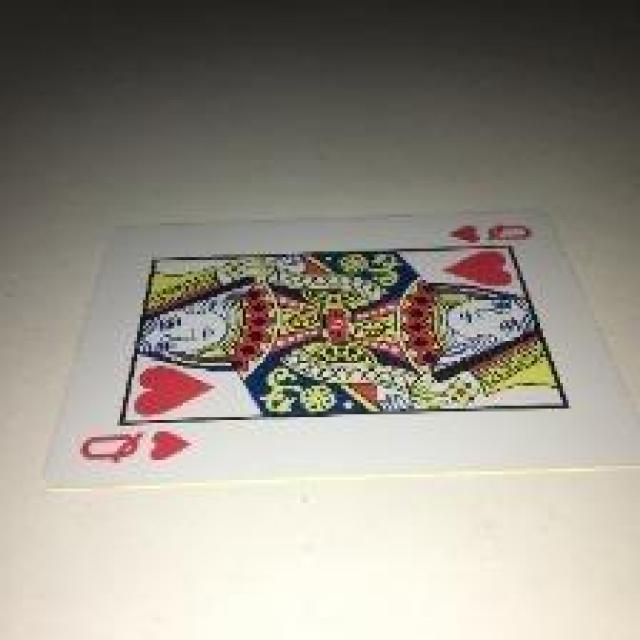Queen of hearts: (50, 210, 639, 481)
